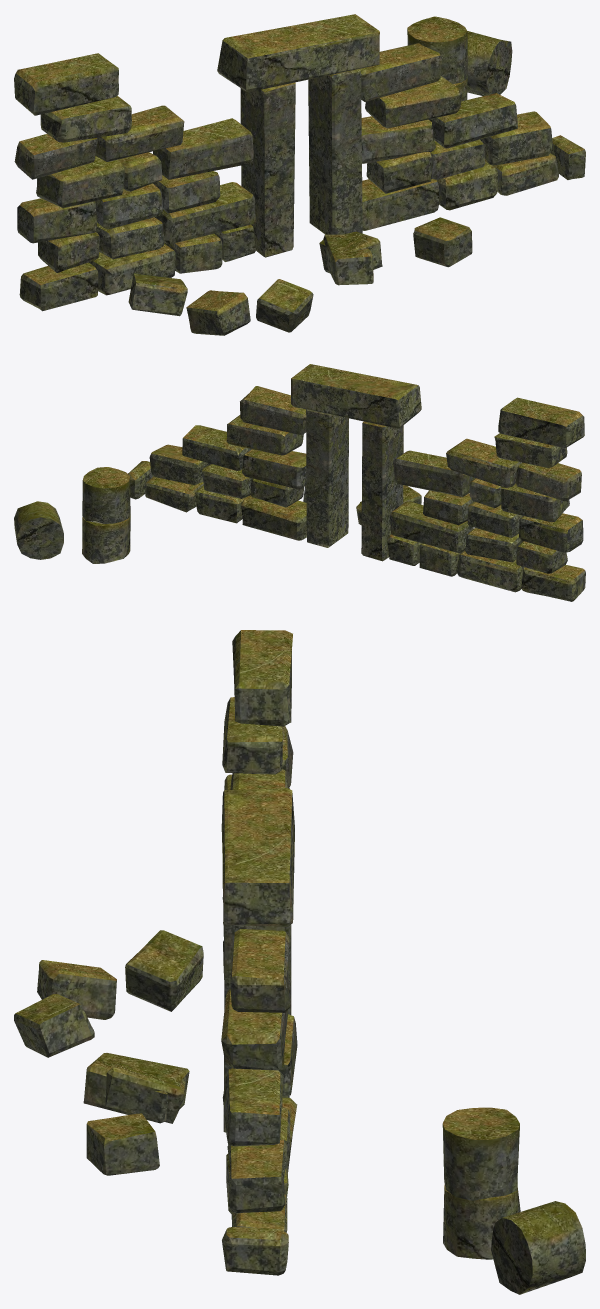
File: stone_ruin.glb
3 renders of one model, top to bottom at view 1: azimuth 30°, elevation 25°; view 2: azimuth 150°, elevation 25°; view 3: azimuth 270°, elevation 25°, orthographic. The views are drawn at different scales.
Parts seen in each view (by area): view 1: stone_ruin; view 2: stone_ruin; view 3: stone_ruin.
Boxes of the visible parts, x1,y1,x2,y2 form: stone_ruin: [14, 14, 585, 335]; stone_ruin: [14, 364, 585, 601]; stone_ruin: [14, 630, 585, 1294].
Size of the model in its own units: 9.64 by 3.68 by 6.12.
1 material, 1 textured.
